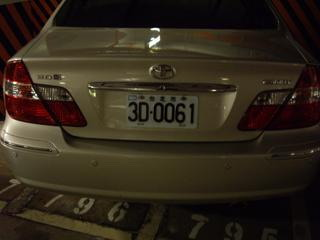plate: (125, 92, 200, 130)
